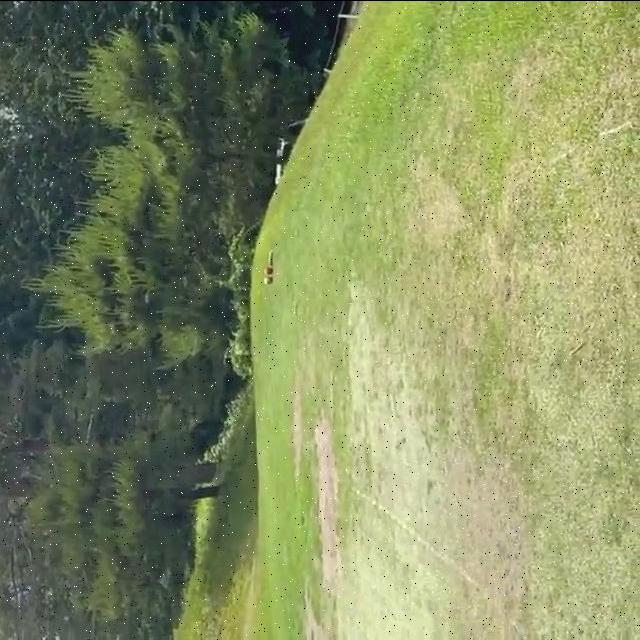golf ball: (264, 266, 272, 274), (263, 276, 271, 283)
